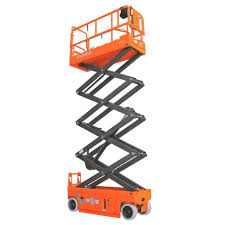Scissor Lift: (66, 4, 153, 221)
